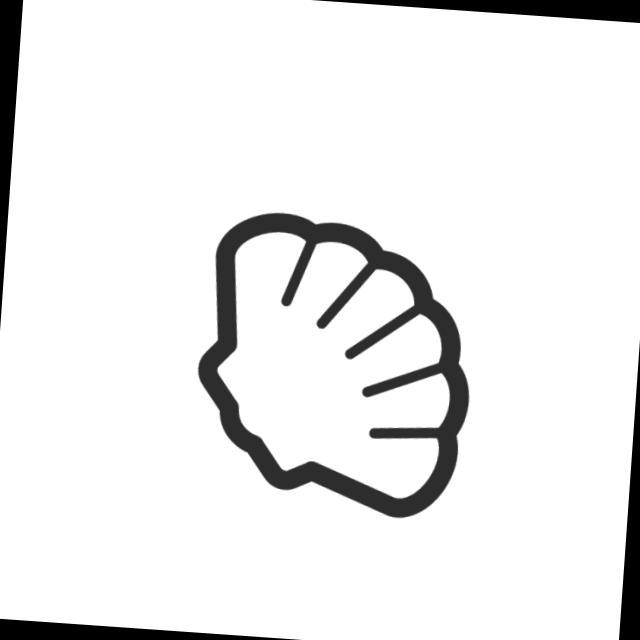shell: (182, 199, 489, 530)
